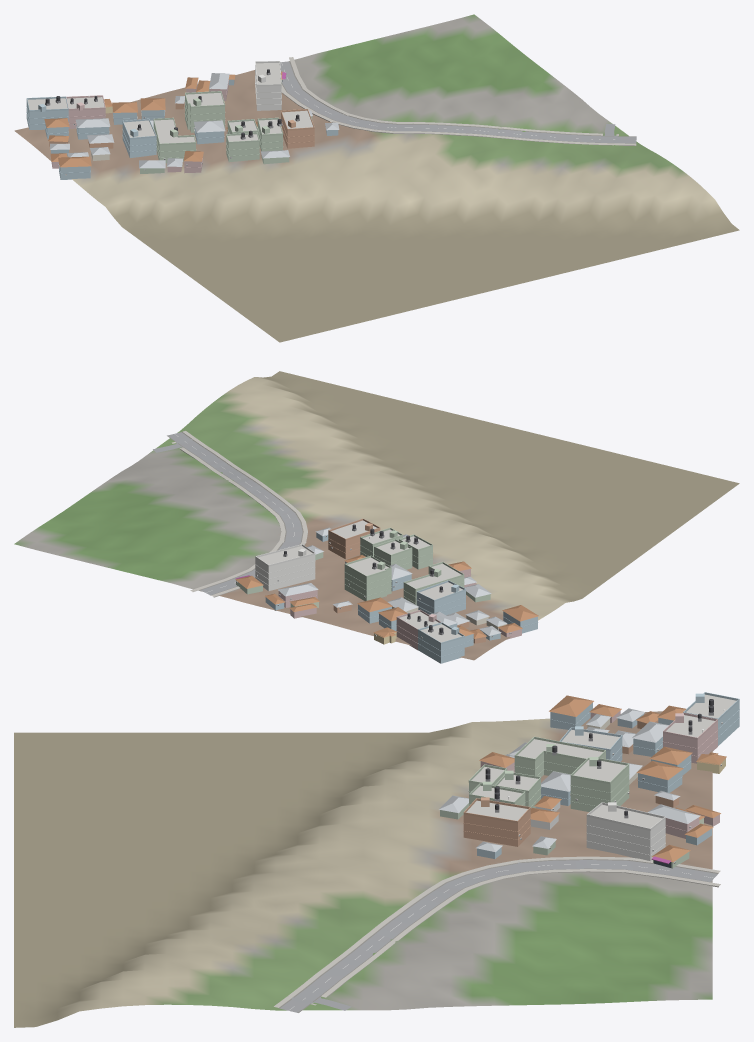
The picture shows the model from 3 angles, top to bottom: view 1: azimuth 30°, elevation 25°; view 2: azimuth 150°, elevation 25°; view 3: azimuth 270°, elevation 25°; orthographic projection. The views are drawn at different scales.
Parts seen in each view (by area): view 1: Terrain-col, Buildings-col, Details, Roads-col, Sidewalks-col; view 2: Terrain-col, Buildings-col, Details, Roads-col, Sidewalks-col; view 3: Terrain-col, Buildings-col, Roads-col, Details, Sidewalks-col.
Part boxes in pixels (x1=…): Terrain-col: x1=14, y1=14, x2=739, y2=342; Buildings-col: x1=26, y1=63, x2=339, y2=179; Details: x1=26, y1=61, x2=314, y2=175; Roads-col: x1=280, y1=61, x2=636, y2=143; Sidewalks-col: x1=281, y1=57, x2=636, y2=145; Terrain-col: x1=14, y1=371, x2=739, y2=660; Buildings-col: x1=235, y1=520, x2=538, y2=663; Details: x1=235, y1=518, x2=538, y2=657; Roads-col: x1=153, y1=432, x2=303, y2=595; Sidewalks-col: x1=172, y1=431, x2=307, y2=597; Terrain-col: x1=14, y1=711, x2=712, y2=1027; Buildings-col: x1=439, y1=694, x2=739, y2=868; Roads-col: x1=279, y1=859, x2=718, y2=1012; Details: x1=463, y1=692, x2=739, y2=867; Sidewalks-col: x1=274, y1=856, x2=720, y2=1007.
Size of the model in its own units: 264 by 25.84 by 266.
